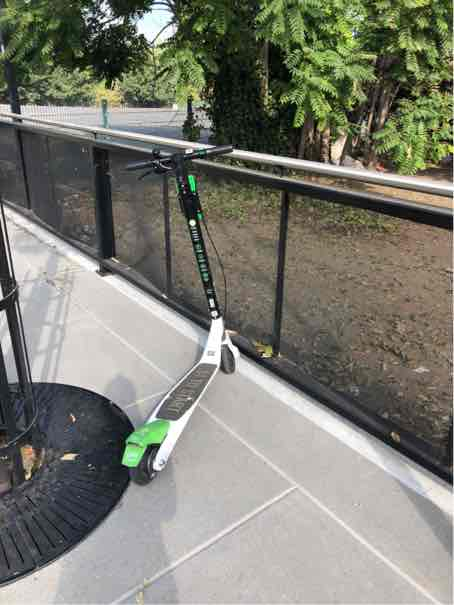scooter: (103, 134, 252, 488)
